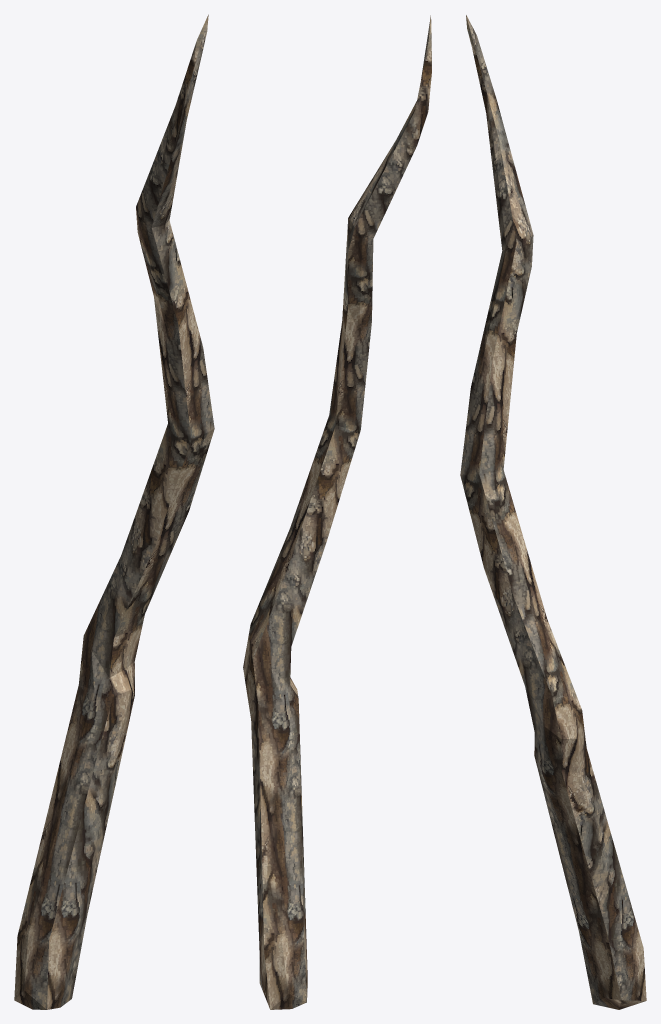
Rendered from Forest_1_Tree_5.gltf.
The picture shows the model from 3 angles, left to right: view 1: azimuth 90°, elevation 25°; view 2: azimuth 150°, elevation 25°; view 3: azimuth 270°, elevation 25°; orthographic projection. The views are drawn at different scales.
Parts seen in each view (by area): view 1: Forest_1_Tree_5; view 2: Forest_1_Tree_5; view 3: Forest_1_Tree_5.
Part boxes in pixels (box(x1,y1,x2,y2)): Forest_1_Tree_5: box(14, 14, 214, 1009); Forest_1_Tree_5: box(243, 15, 431, 1009); Forest_1_Tree_5: box(460, 15, 646, 1009).
Size of the model in its own units: 3.7 by 22.5 by 3.96.
Materials: 1 (1 with a texture image).
